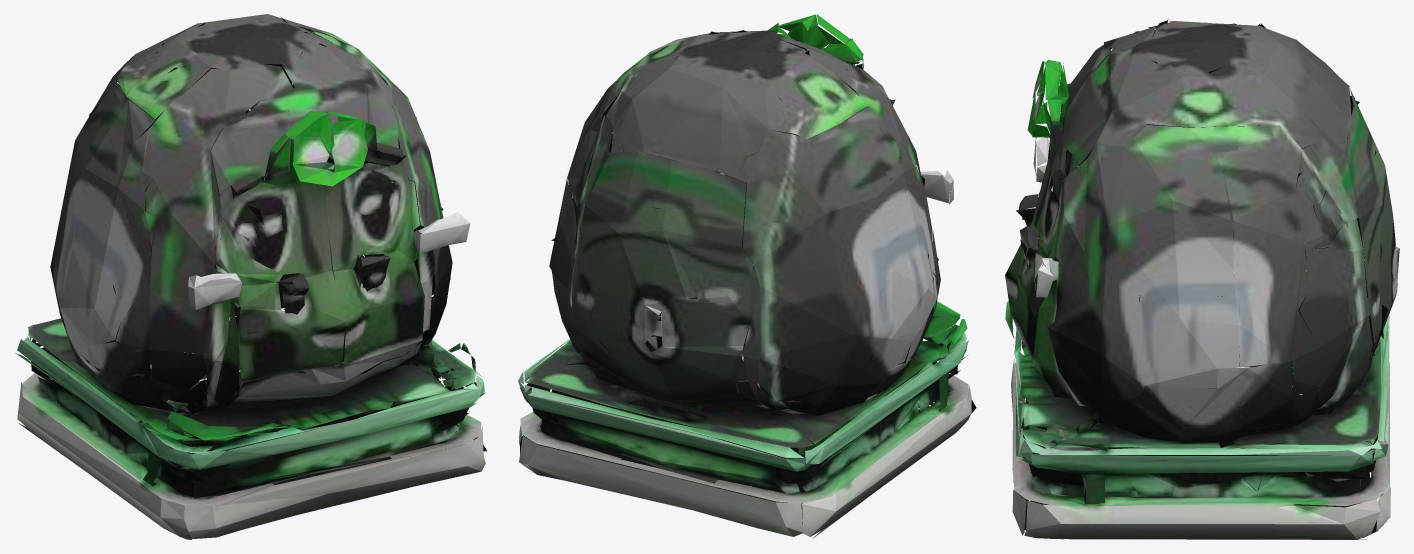
The picture shows the model from 3 angles, left to right: view 1: azimuth 30°, elevation 25°; view 2: azimuth 150°, elevation 25°; view 3: azimuth 270°, elevation 25°; orthographic projection. The views are drawn at different scales.
Parts seen in each view (by area): view 1: world; view 2: world; view 3: world.
Part boxes in pixels (box(x1,y1,x2,y2)): world: box(15, 14, 486, 539); world: box(518, 14, 976, 538); world: box(1005, 19, 1399, 539).
Size of the model in its own units: 0.8782 by 0.9979 by 0.8325.
1 material, 1 textured.
